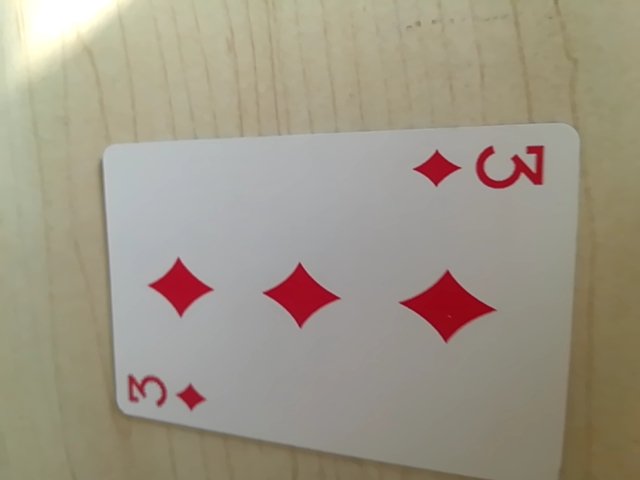fk 3: (413, 137, 550, 197), (122, 364, 213, 419)
